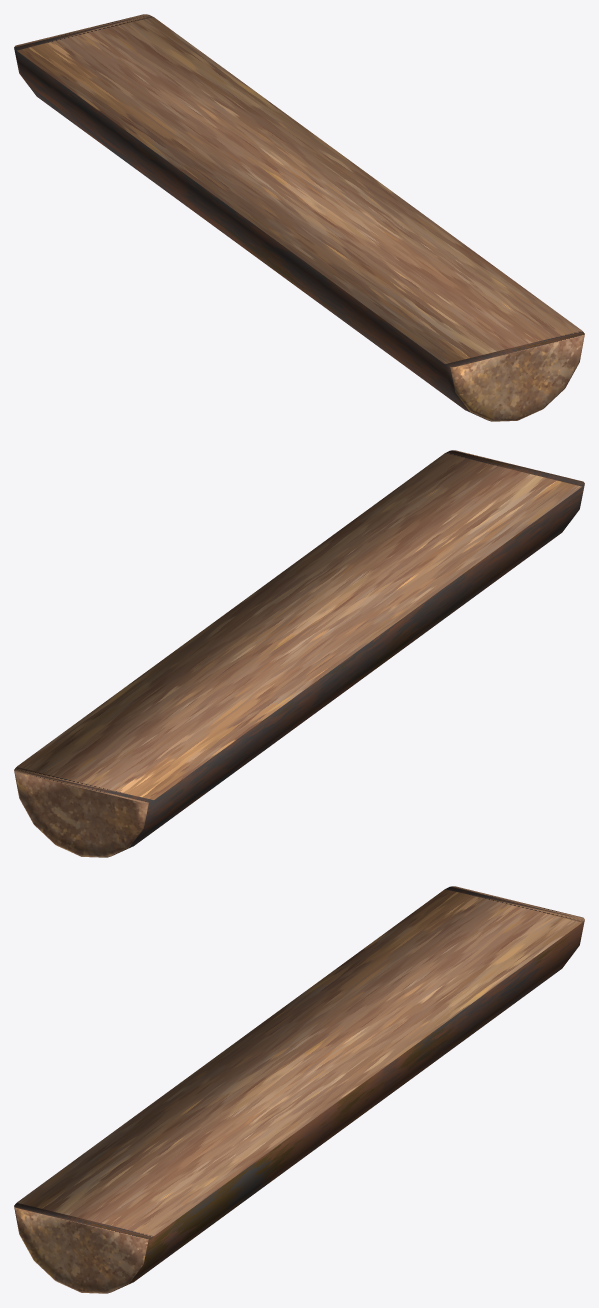
The model's file is Half_Log_CvL_16-11.fbx.
The picture shows the model from 3 angles, top to bottom: view 1: azimuth 30°, elevation 25°; view 2: azimuth 150°, elevation 25°; view 3: azimuth 330°, elevation 25°; orthographic projection.
Visible parts, largest first — view 1: Cylinder.003; view 2: Cylinder.003; view 3: Cylinder.003.
Boxes of the visible parts, left/top/right/bottom form: Cylinder.003: left=14, top=14, right=584, bottom=421; Cylinder.003: left=14, top=450, right=584, bottom=857; Cylinder.003: left=14, top=886, right=584, bottom=1293.
Size of the model in its own units: 258 by 129 by 1427.
Materials: 1 (1 with a texture image).
